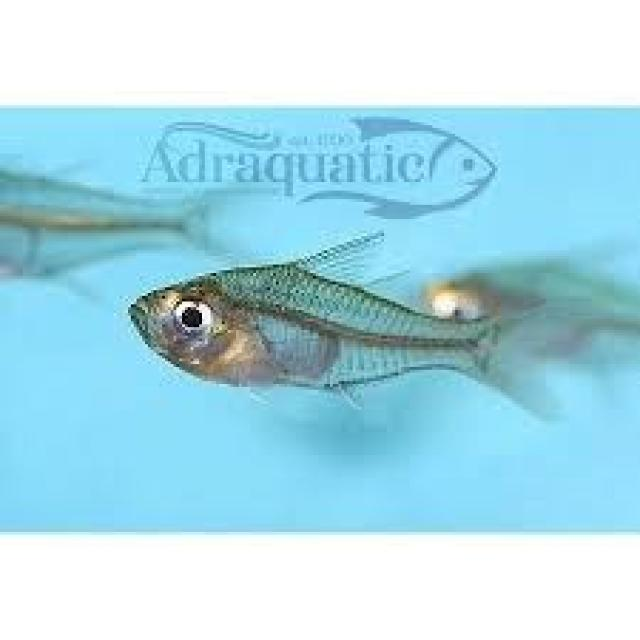Glass-Perchlet: (89, 196, 577, 425)
